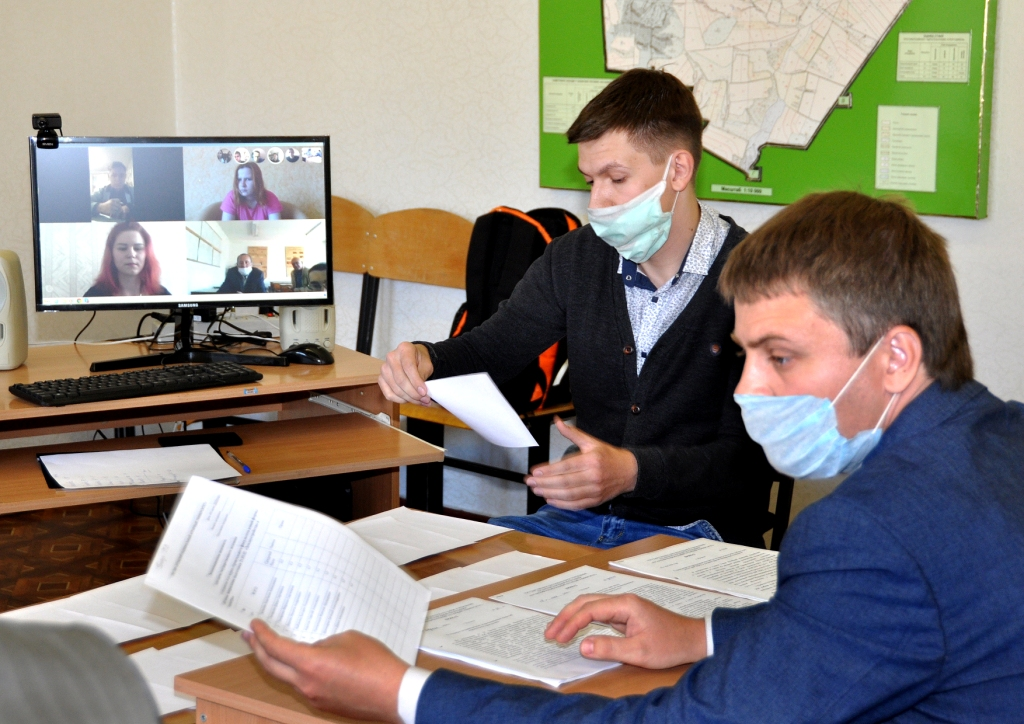students: (244, 188, 1023, 721), (377, 65, 753, 535), (82, 221, 172, 297), (222, 163, 281, 220), (89, 151, 134, 223), (216, 252, 268, 293)
